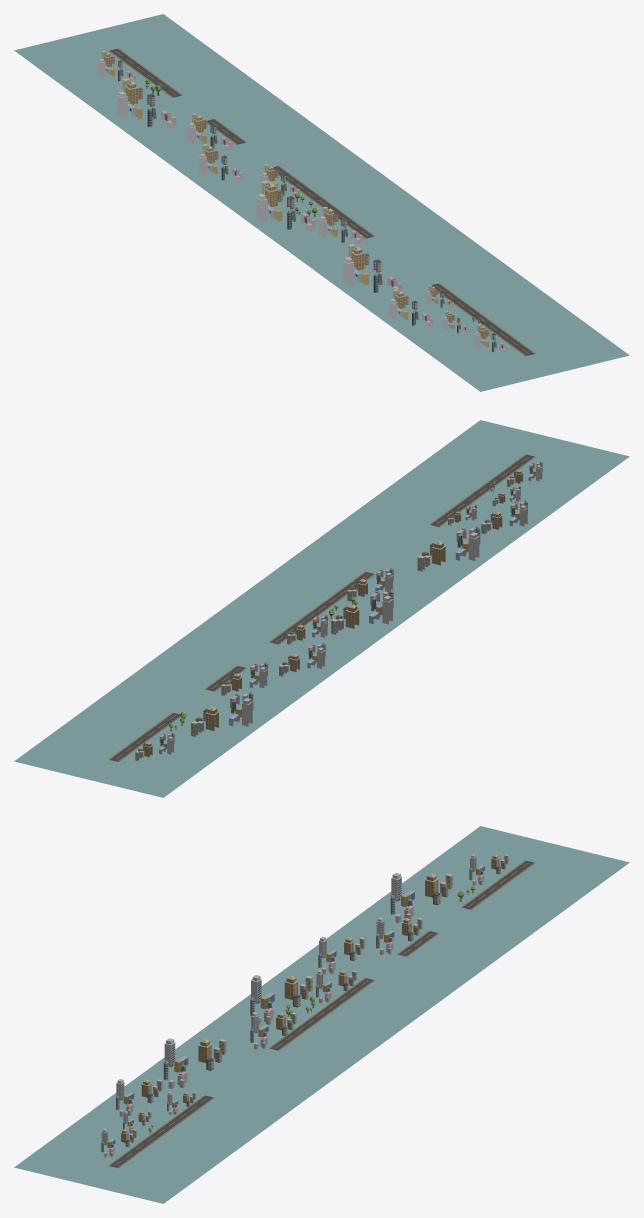
File: Stage 1.fbx
The picture shows the model from 3 angles, top to bottom: view 1: azimuth 30°, elevation 25°; view 2: azimuth 150°, elevation 25°; view 3: azimuth 330°, elevation 25°; orthographic projection.
Parts seen in each view (by area): view 1: Stage_geo; view 2: Stage_geo; view 3: Stage_geo.
Boxes of the visible parts, x1=… form: Stage_geo: x1=14, y1=14, x2=629, y2=391; Stage_geo: x1=14, y1=420, x2=629, y2=797; Stage_geo: x1=14, y1=826, x2=629, y2=1203.
Bounding box in the file's own units: 10000 × 1596 × 54051.
